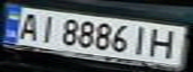6: (112, 22, 133, 54)
8: (57, 16, 81, 47), (93, 20, 115, 52), (75, 18, 96, 50)
A: (12, 9, 42, 40)
H: (145, 26, 184, 60)
I: (127, 24, 154, 56), (33, 12, 60, 44)
